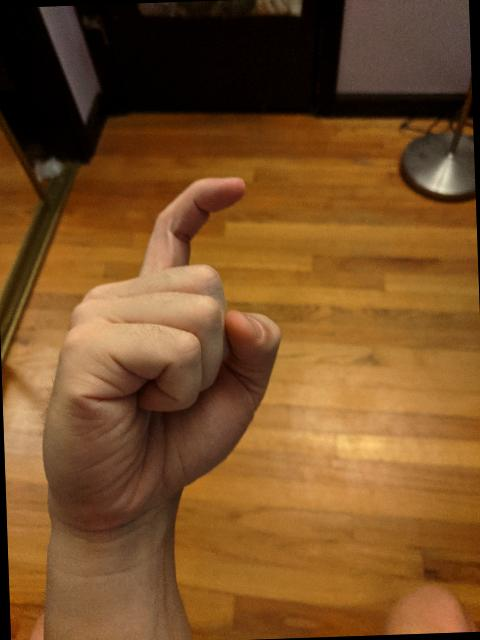X: (26, 169, 294, 533)
